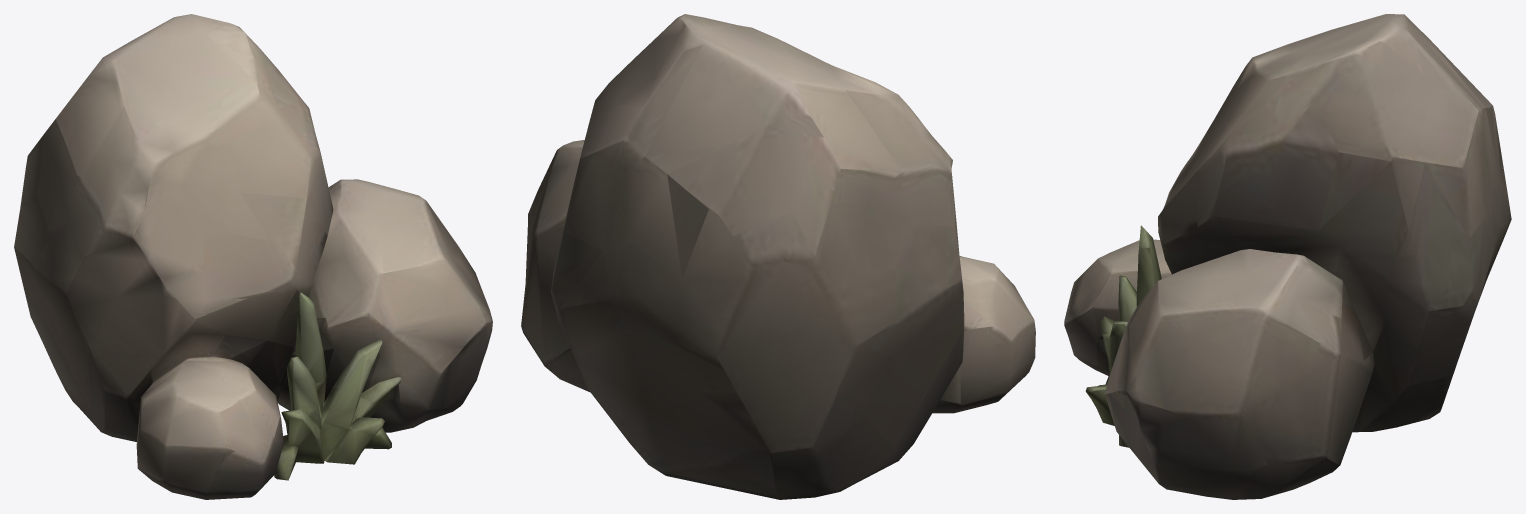
Rendered from rocks.glb.
3 renders of one model, left to right at view 1: azimuth 30°, elevation 25°; view 2: azimuth 150°, elevation 25°; view 3: azimuth 270°, elevation 25°, orthographic. The views are drawn at different scales.
Visible parts, largest first — view 1: tripo_node_79cdd421-2e4b-4e9b-ab95-75c1a0642af8; view 2: tripo_node_79cdd421-2e4b-4e9b-ab95-75c1a0642af8; view 3: tripo_node_79cdd421-2e4b-4e9b-ab95-75c1a0642af8.
Boxes of the visible parts, <box> form: tripo_node_79cdd421-2e4b-4e9b-ab95-75c1a0642af8: <box>14,14,492,499</box>; tripo_node_79cdd421-2e4b-4e9b-ab95-75c1a0642af8: <box>521,14,1035,499</box>; tripo_node_79cdd421-2e4b-4e9b-ab95-75c1a0642af8: <box>1064,14,1511,499</box>.
Bounding box in the file's own units: 0.9814 × 0.865 × 0.9256.
1 material, 1 textured.
